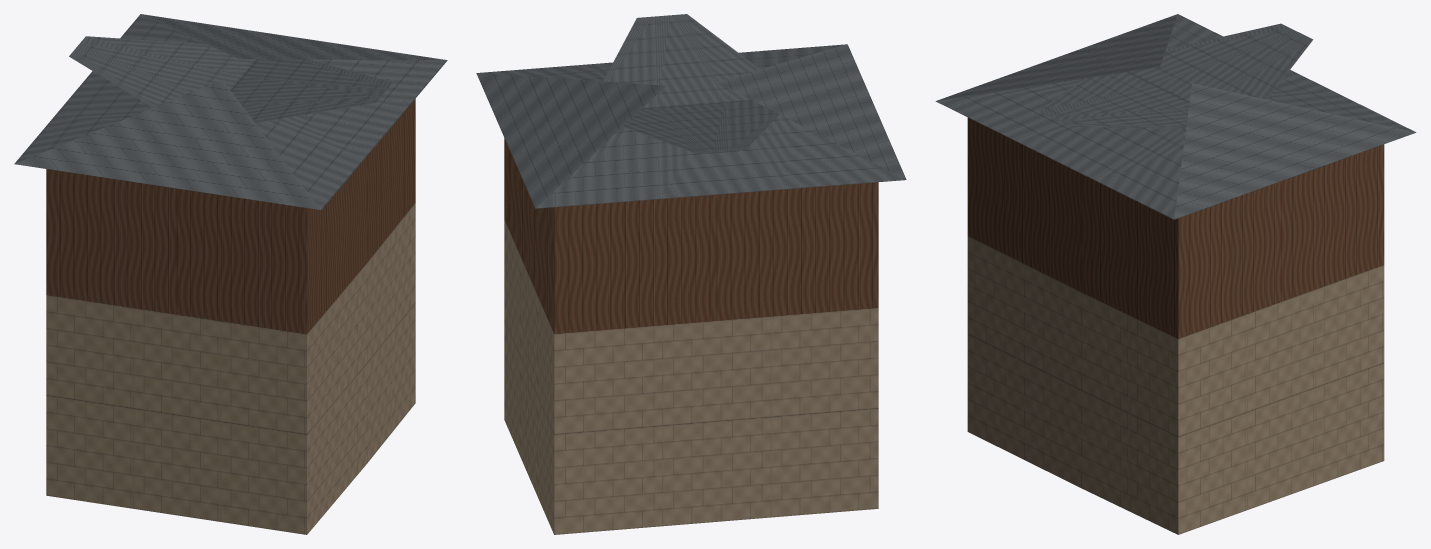
The model's file is bld_c10_9_501.gltf.
The picture shows the model from 3 angles, left to right: view 1: azimuth 30°, elevation 25°; view 2: azimuth 150°, elevation 25°; view 3: azimuth 270°, elevation 25°; orthographic projection. The views are drawn at different scales.
Parts seen in each view (by area): view 1: bld_c10_9_501; view 2: bld_c10_9_501; view 3: bld_c10_9_501.
Boxes of the visible parts, bbox=[...] form: bld_c10_9_501: bbox=[14, 14, 447, 534]; bld_c10_9_501: bbox=[476, 14, 906, 534]; bld_c10_9_501: bbox=[935, 14, 1416, 534].
Bounding box in the file's own units: 10.58 × 8.9 × 10.46.
3 materials, 3 textured.
